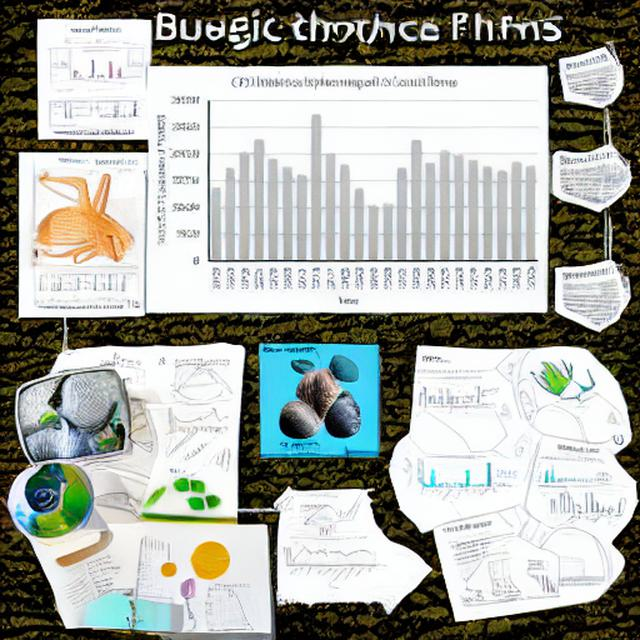Graph: (151, 68, 542, 310), (279, 533, 378, 591), (413, 453, 494, 505), (198, 581, 266, 632), (558, 485, 624, 524), (165, 404, 230, 440), (62, 48, 125, 84)
